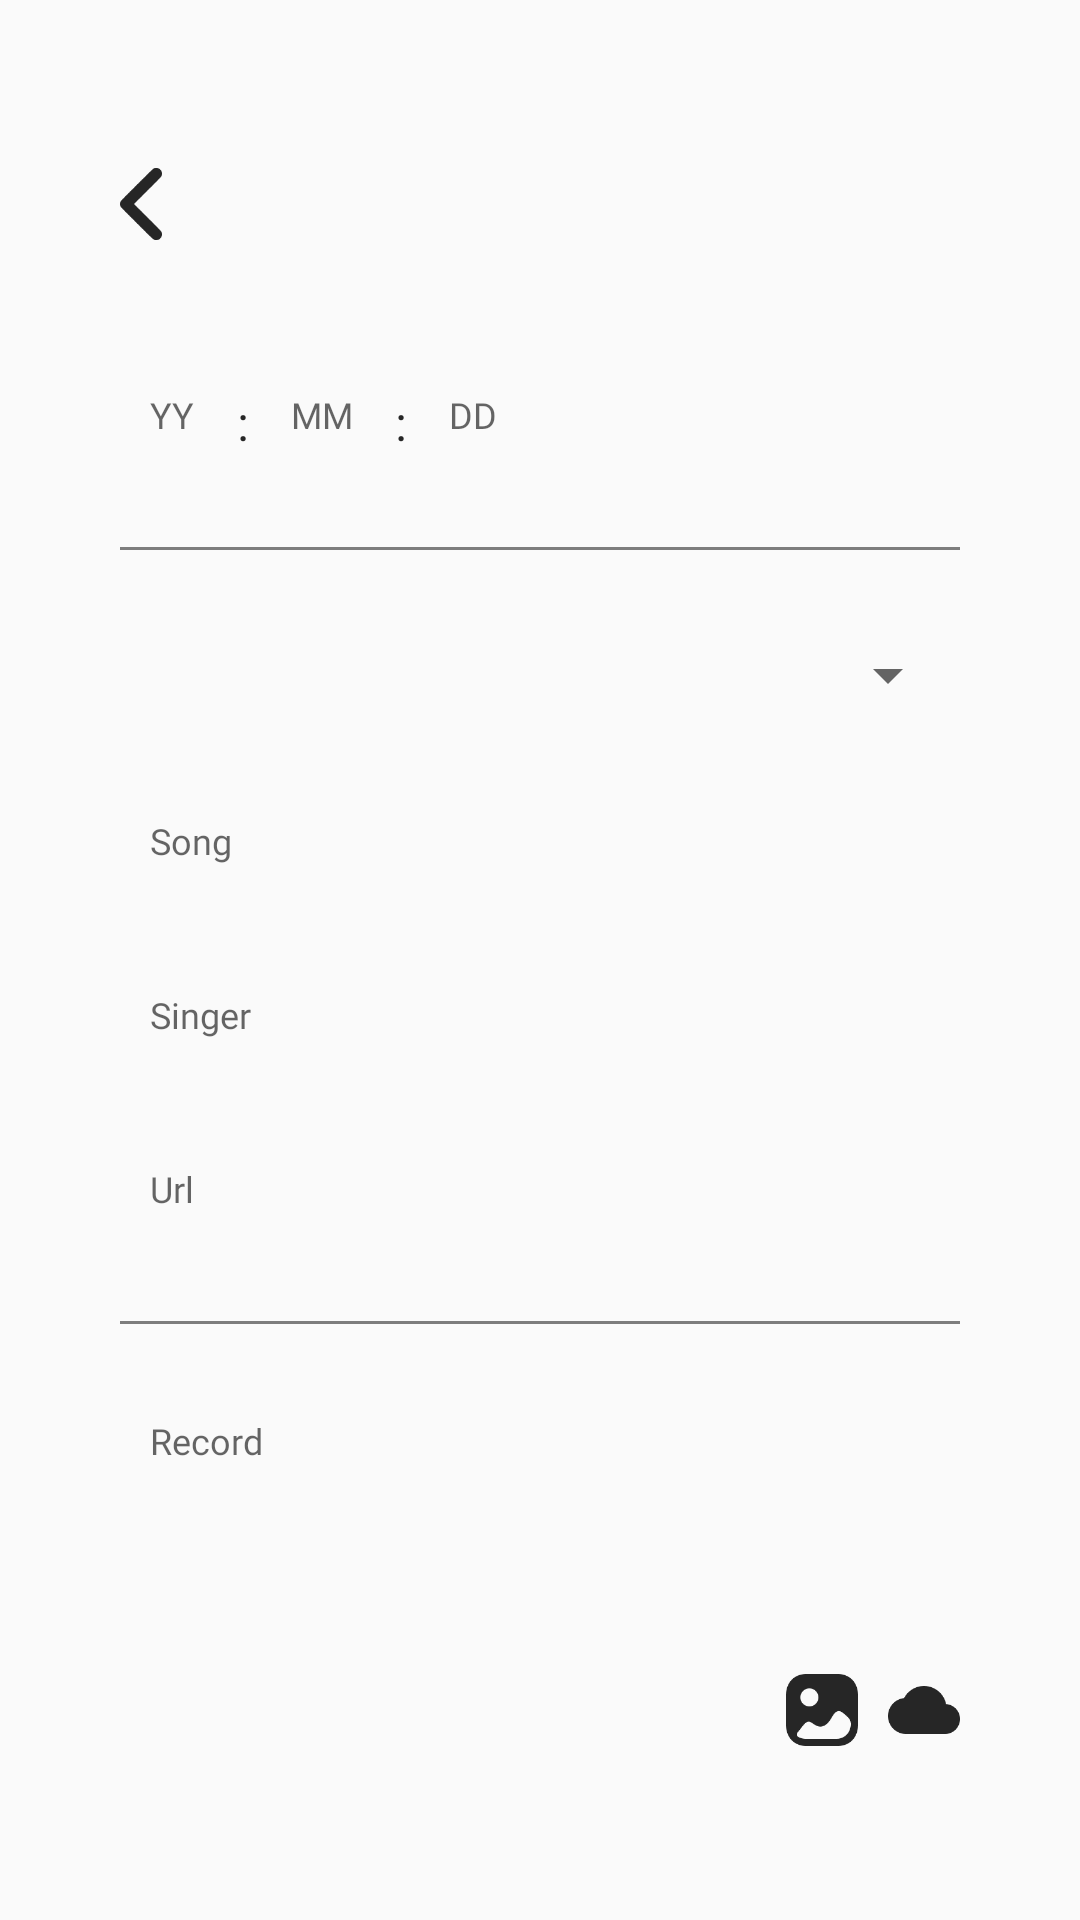

Screen size 1080w x 1920h. Icon name, then its center in pixels as point (x, y):
beforebtn: point (141, 204)
savebtn: point (924, 1710)
selectbtn: point (822, 1710)
